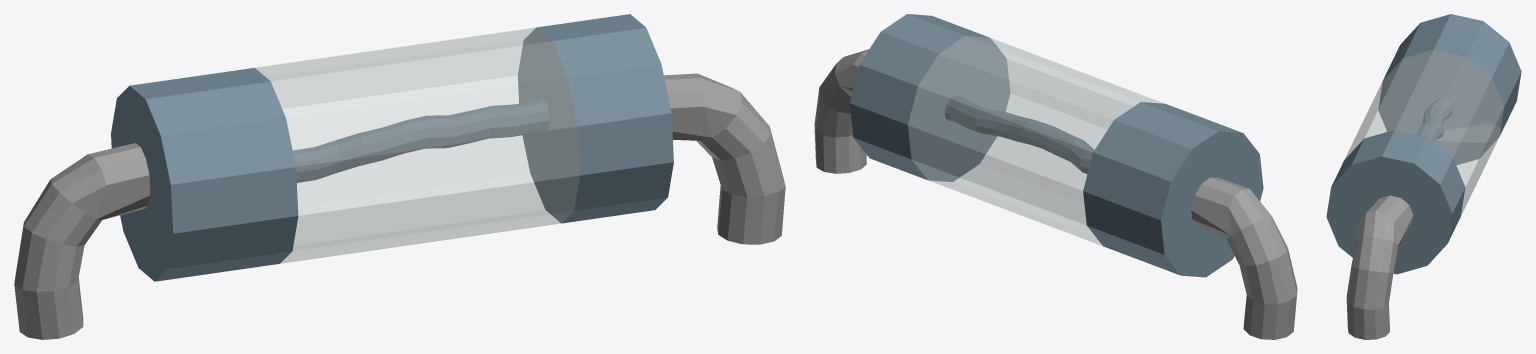
Rendered from with_rod.glb.
3 views of the same model, side by side, from view 1: azimuth 30°, elevation 25°; view 2: azimuth 150°, elevation 25°; view 3: azimuth 270°, elevation 25° (orthographic). The views are drawn at different scales.
Visible parts, largest first — view 1: group991569336, group1314267949, group2050943777, group117437998, group1892867557, group755782027; view 2: group991569336, group1314267949, group2050943777, group117437998, group1892867557, group755782027; view 3: group1314267949, group2050943777, group991569336, group1892867557, group755782027.
Part boxes in pixels (x1=…): group991569336: x1=255, y1=27, x2=579, y2=263; group1314267949: x1=111, y1=67, x2=298, y2=281; group2050943777: x1=517, y1=14, x2=673, y2=223; group117437998: x1=14, y1=143, x2=150, y2=339; group1892867557: x1=664, y1=73, x2=785, y2=244; group755782027: x1=293, y1=100, x2=549, y2=182; group991569336: x1=908, y1=36, x2=1163, y2=245; group1314267949: x1=1083, y1=102, x2=1263, y2=277; group2050943777: x1=849, y1=14, x2=1010, y2=181; group117437998: x1=1191, y1=177, x2=1297, y2=339; group1892867557: x1=814, y1=49, x2=868, y2=173; group755782027: x1=944, y1=95, x2=1094, y2=173; group1314267949: x1=1378, y1=14, x2=1521, y2=164; group2050943777: x1=1326, y1=130, x2=1465, y2=274; group991569336: x1=1344, y1=50, x2=1503, y2=215; group1892867557: x1=1346, y1=195, x2=1413, y2=339; group755782027: x1=1417, y1=98, x2=1453, y2=142.
Bounding box in the file's own units: 0.2392 × 0.0742 × 0.0904.
